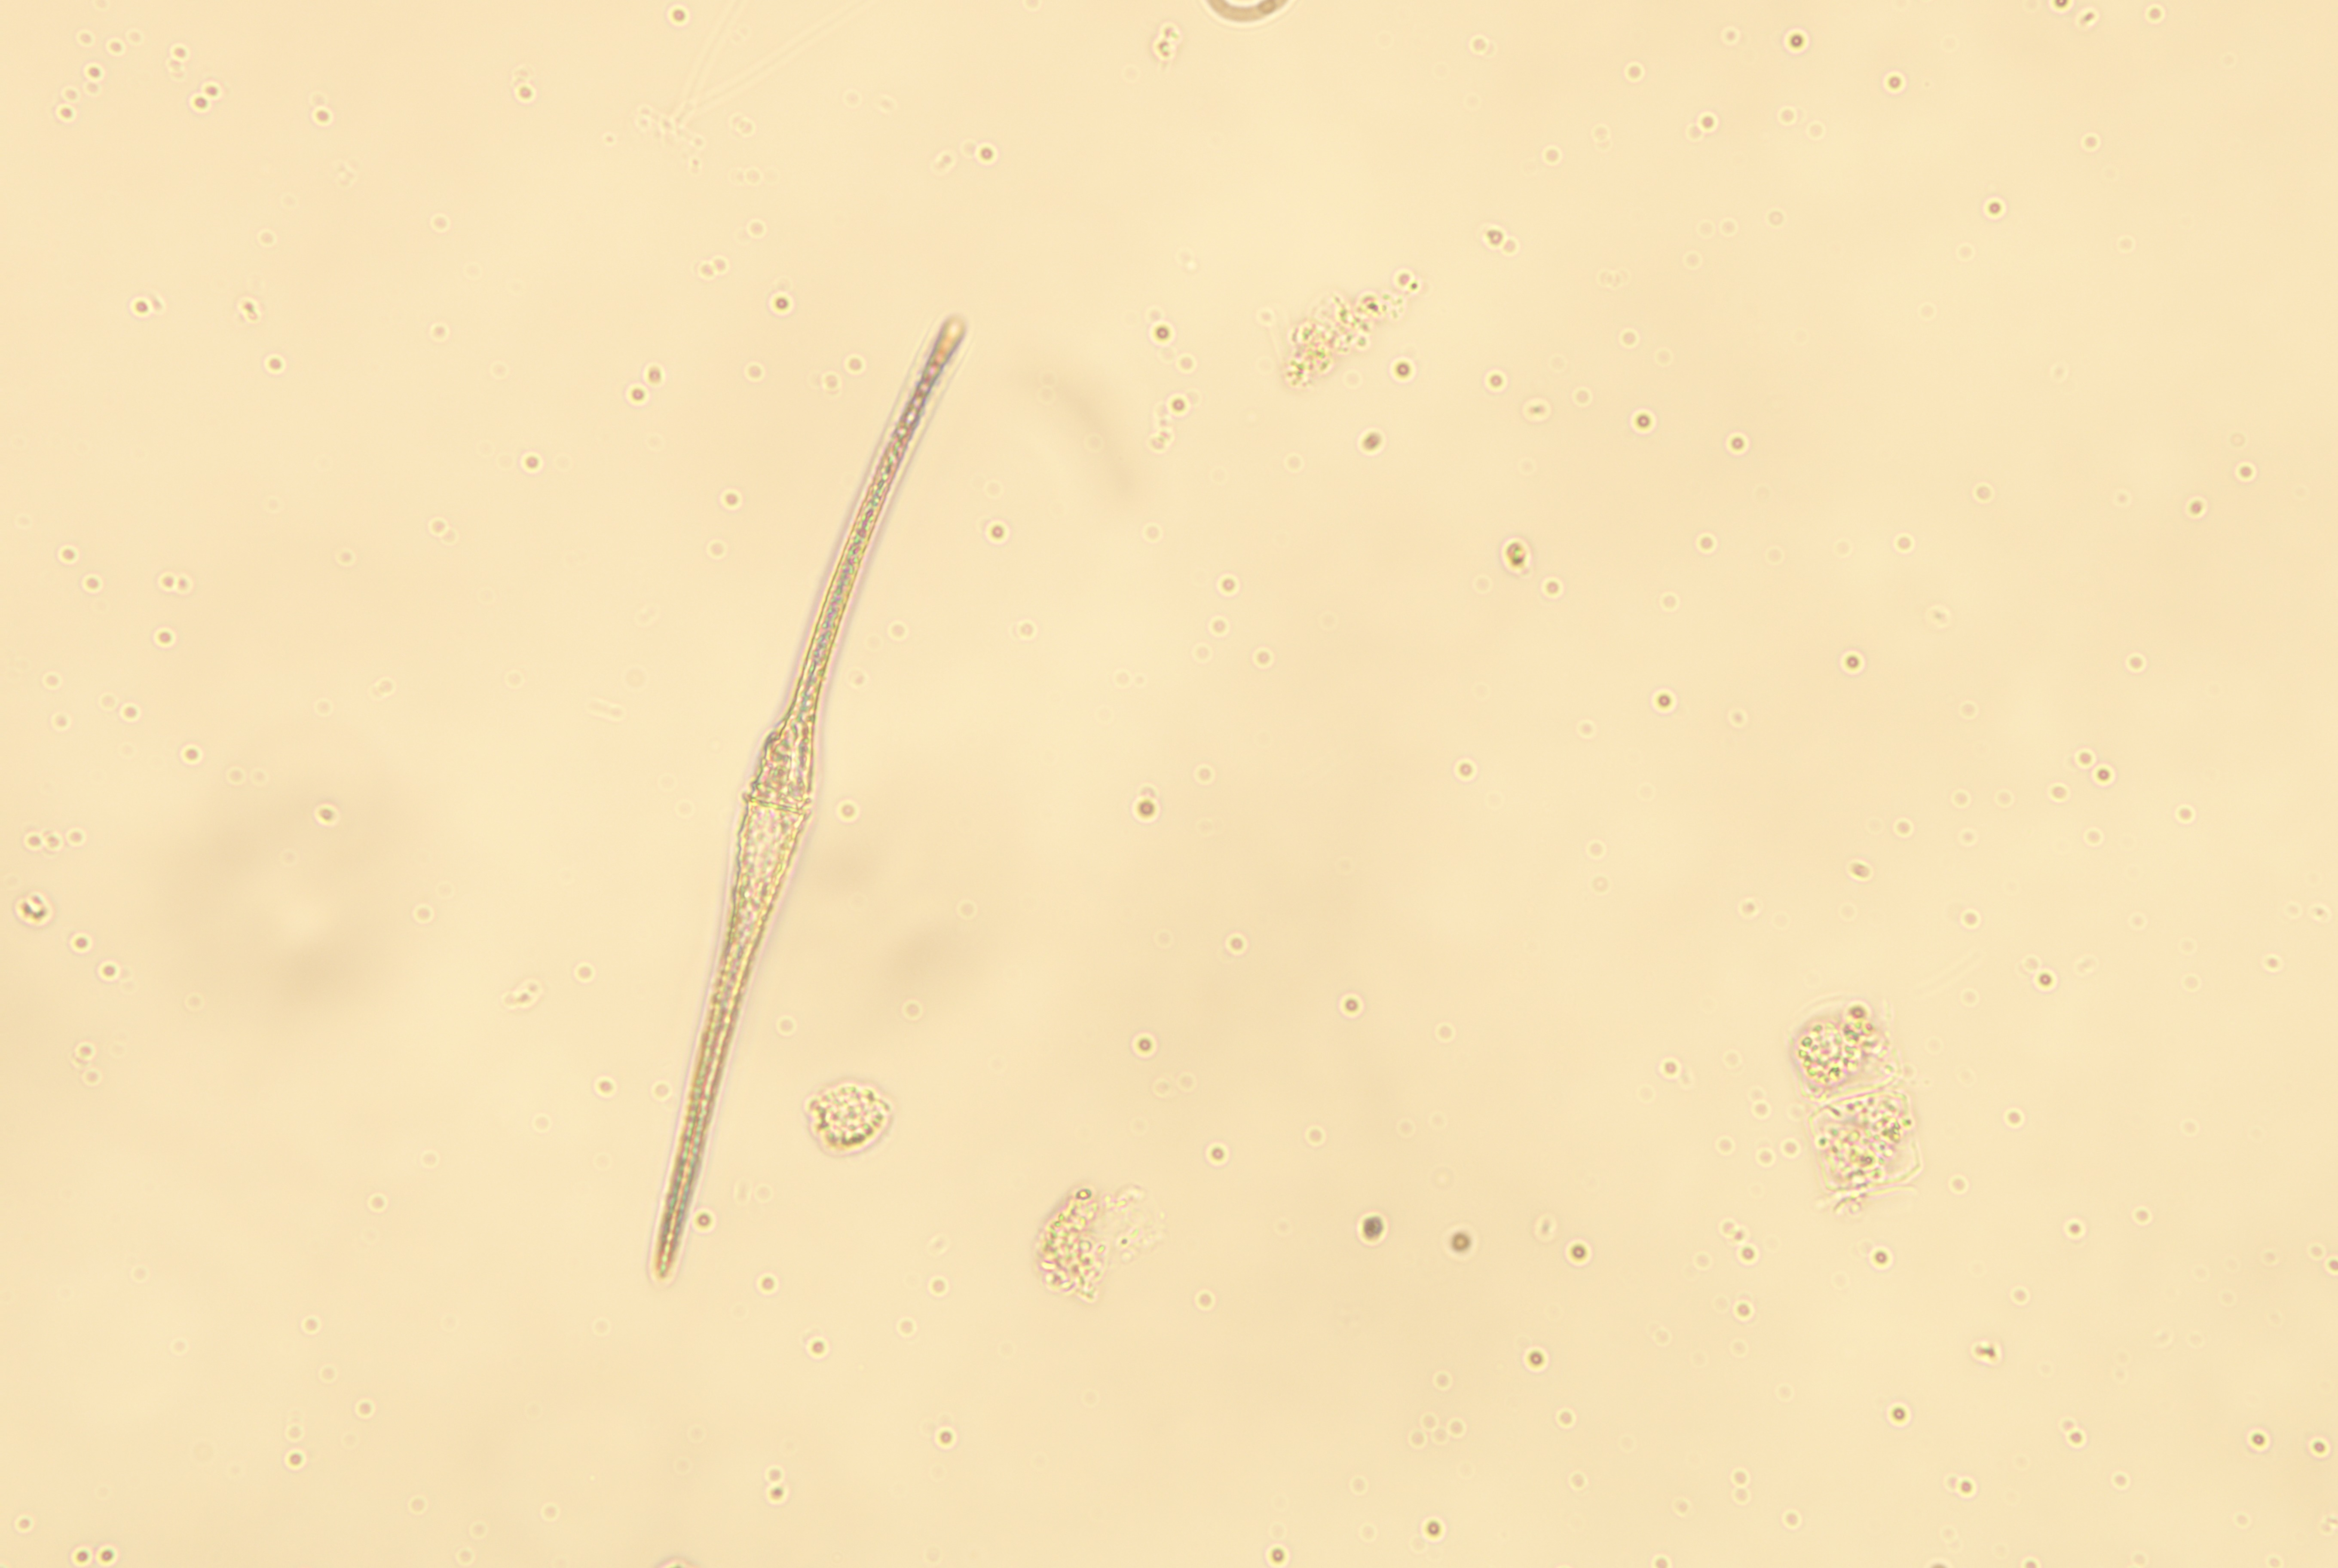ceratium fusus: (644, 304, 973, 1279)
